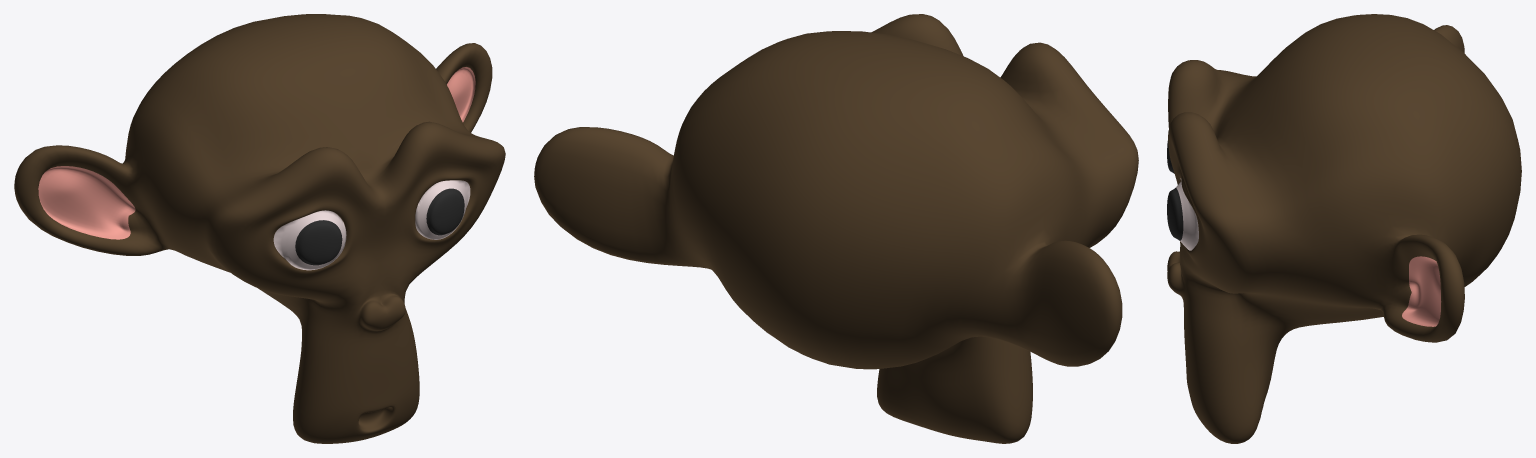
The model's file is Suzanne.gltf.
The picture shows the model from 3 angles, left to right: view 1: azimuth 30°, elevation 25°; view 2: azimuth 150°, elevation 25°; view 3: azimuth 270°, elevation 25°; orthographic projection. The views are drawn at different scales.
Visible parts, largest first — view 1: Suzanne; view 2: Suzanne; view 3: Suzanne.
Part boxes in pixels (<box>): Suzanne: <box>14,14,505,443</box>; Suzanne: <box>534,14,1138,443</box>; Suzanne: <box>1167,14,1521,443</box>.
Size of the model in its own units: 2.66 by 1.91 by 1.6.
